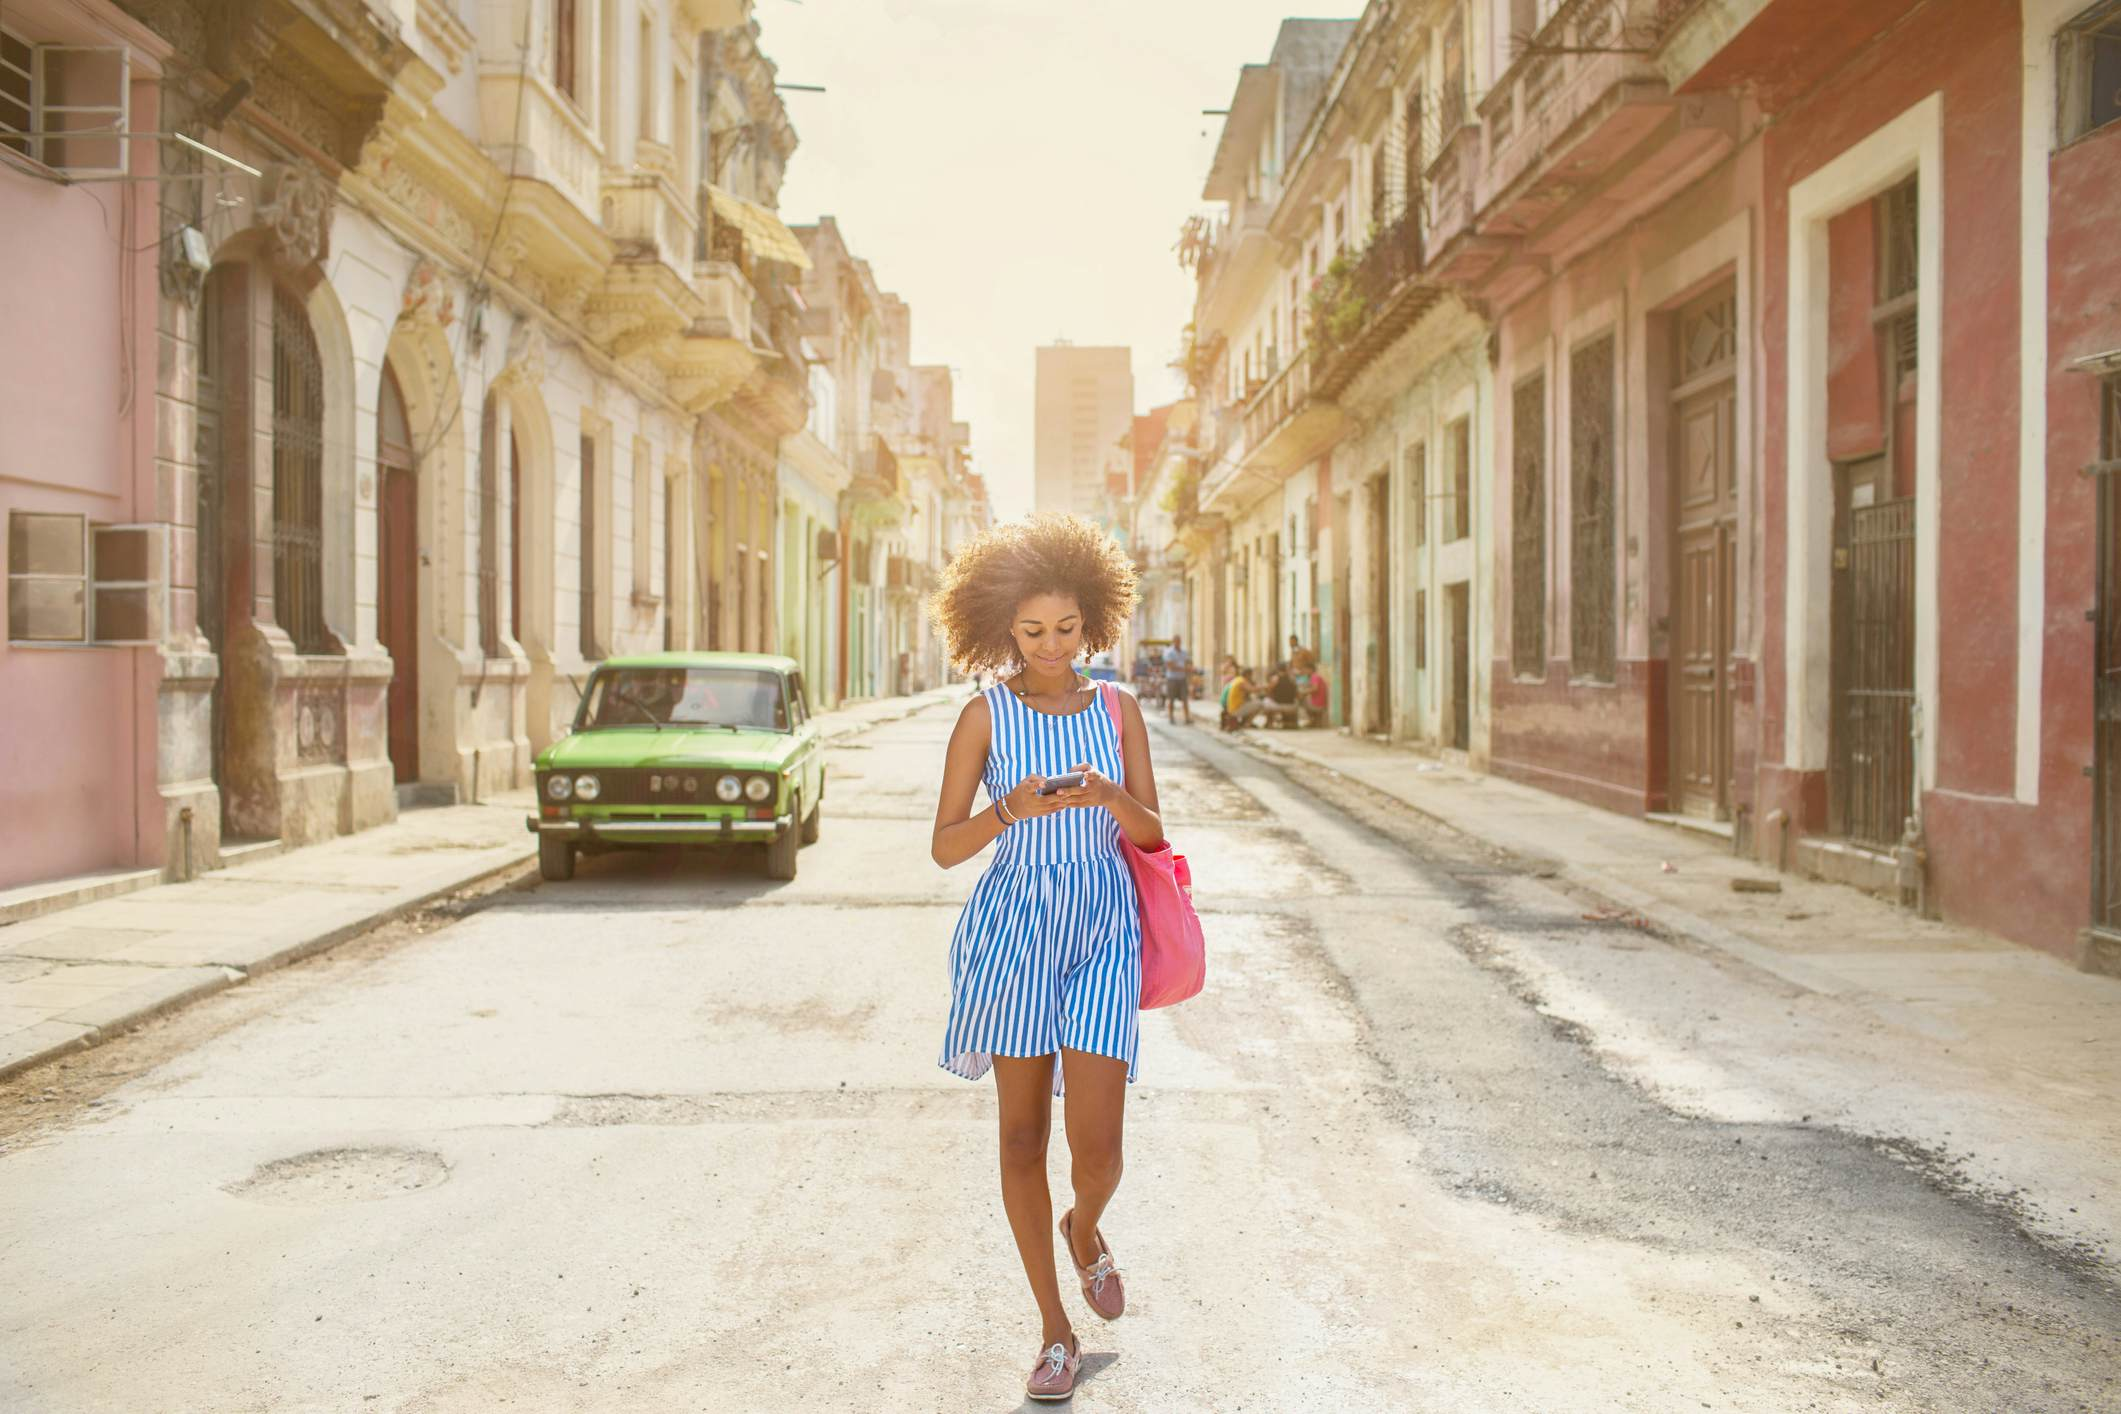car: (511, 631, 839, 900)
person: (921, 523, 1184, 1414)
